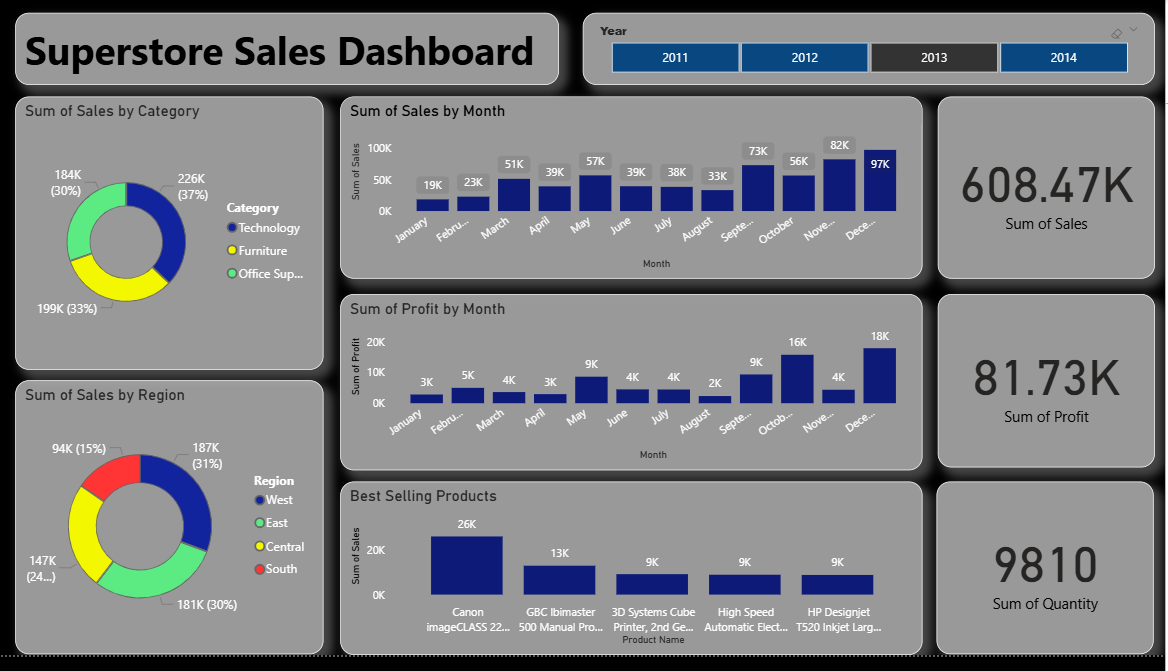

What the dashboard file says about the page in this screenshot:
{"tool":"powerbi","page":{"name":"Page 1","canvas":[1280,720],"ordinal":0},"visuals":[{"type":"textbox","box":[17.4,15.1,596.5,79.1],"z":0},{"type":"columnChart","fields":{"Y":["Sum(Orders.Profit)"],"Category":["Orders.Order Date.Variation.Date Hierarchy.Month"]},"box":[374.6,323.8,639.5,193.5],"z":1000},{"type":"donutChart","fields":{"Y":["Sum(Orders.Sales)"],"Category":["Orders.Region"]},"box":[17.4,418.6,338.4,301.2],"z":2000},{"type":"donutChart","fields":{"Y":["Sum(Orders.Sales)"],"Category":["Orders.Category"]},"box":[17.4,107,338.4,300],"z":3000},{"type":"columnChart","fields":{"Y":["Sum(Orders.Sales)"],"Category":["Orders.Order Date.Variation.Date Hierarchy.Month"]},"box":[374.6,107,639.5,200.3],"z":4000},{"type":"columnChart","title":"Best Selling Products","fields":{"Y":["Sum(Orders.Sales)"],"Category":["Orders.Product Name"]},"box":[374.6,529.7,639.5,190.7],"z":5000},{"type":"card","fields":{"Values":["Sum(Orders.Sales)"]},"box":[1030.2,107,238.4,200],"z":6000},{"type":"card","fields":{"Values":["Sum(Orders.Profit)"]},"box":[1030.2,323.3,238.4,190.7],"z":7000},{"type":"card","fields":{"Values":["Sum(Orders.Quantity)"]},"box":[1029.1,530.2,238.4,189.5],"z":8000},{"type":"slicer","fields":{"Values":["Orders.Order Date.Variation.Date Hierarchy.Year"]},"box":[640.7,15.1,627.9,79.1],"z":9000}]}

Visuals, with their boxes in screenshot pixels (x1, y1, x2, y2), scaled from the page's 1280x720 canvas onto the 1168x671 screenshot:
textbox: BBox(16, 14, 560, 88)
columnChart - Sum(Orders.Profit) x Orders.Order Date.Variation.Date Hierarchy.Month: BBox(342, 302, 925, 482)
donutChart - Sum(Orders.Sales) x Orders.Region: BBox(16, 390, 325, 670)
donutChart - Sum(Orders.Sales) x Orders.Category: BBox(16, 100, 325, 379)
columnChart - Sum(Orders.Sales) x Orders.Order Date.Variation.Date Hierarchy.Month: BBox(342, 100, 925, 286)
"Best Selling Products" columnChart: BBox(342, 494, 925, 670)
card - Sum(Orders.Sales): BBox(940, 100, 1158, 286)
card - Sum(Orders.Profit): BBox(940, 301, 1158, 479)
card - Sum(Orders.Quantity): BBox(939, 494, 1157, 670)
slicer - Orders.Order Date.Variation.Date Hierarchy.Year: BBox(585, 14, 1158, 88)
